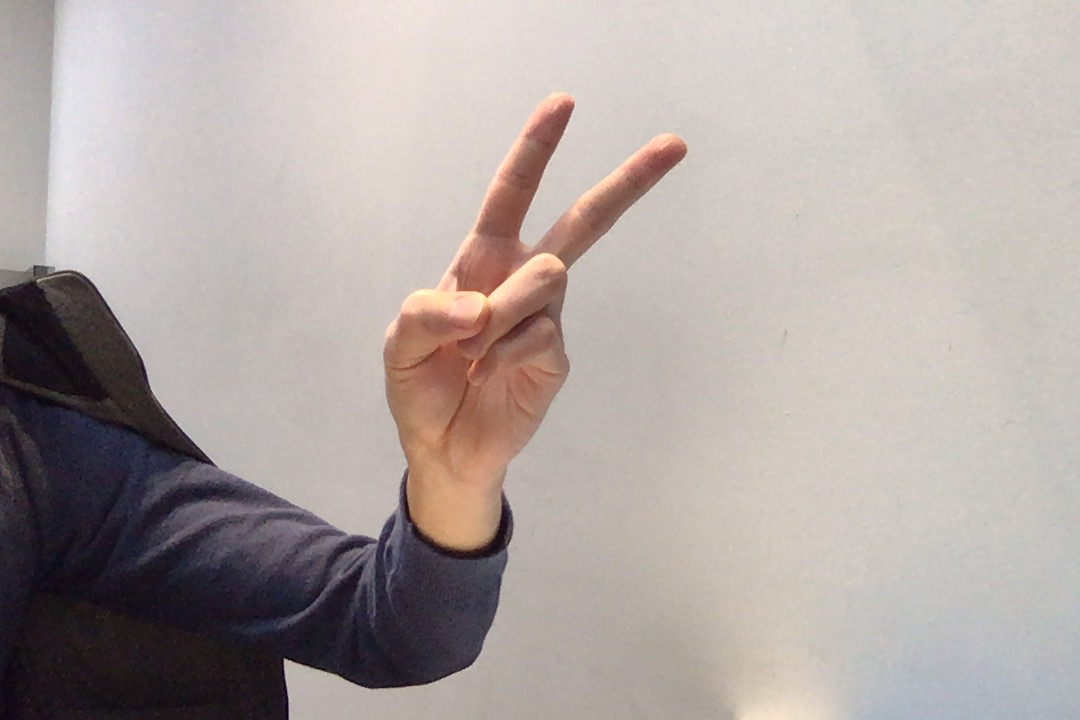peacesign: (364, 80, 698, 483)
